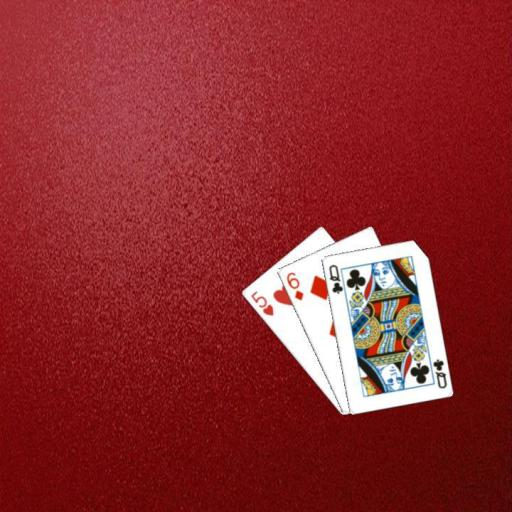5H: (248, 287, 275, 317)
6D: (283, 269, 305, 301)
QC: (326, 261, 344, 295), (430, 356, 448, 390)
